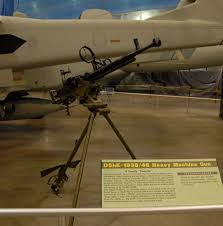gun: (49, 33, 162, 114)
